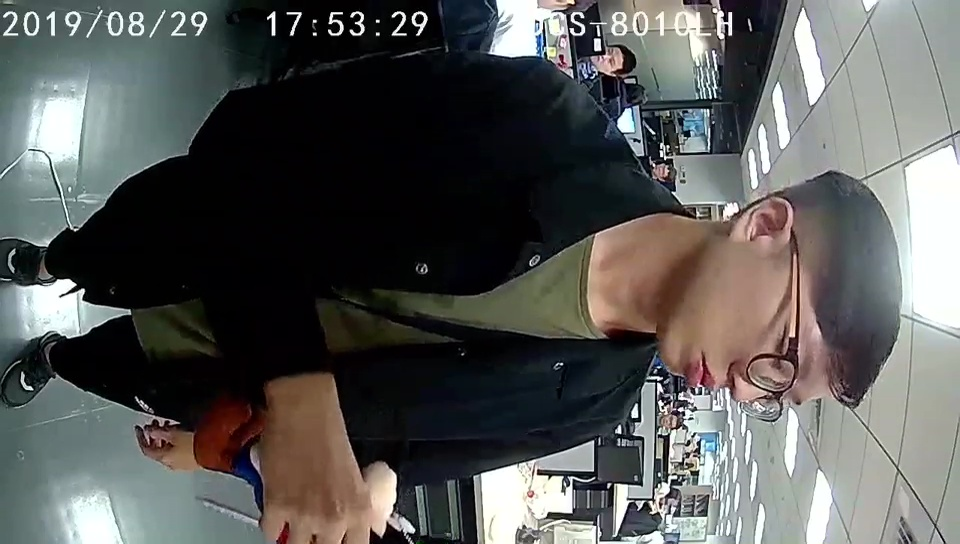goofy: (196, 401, 419, 544)
